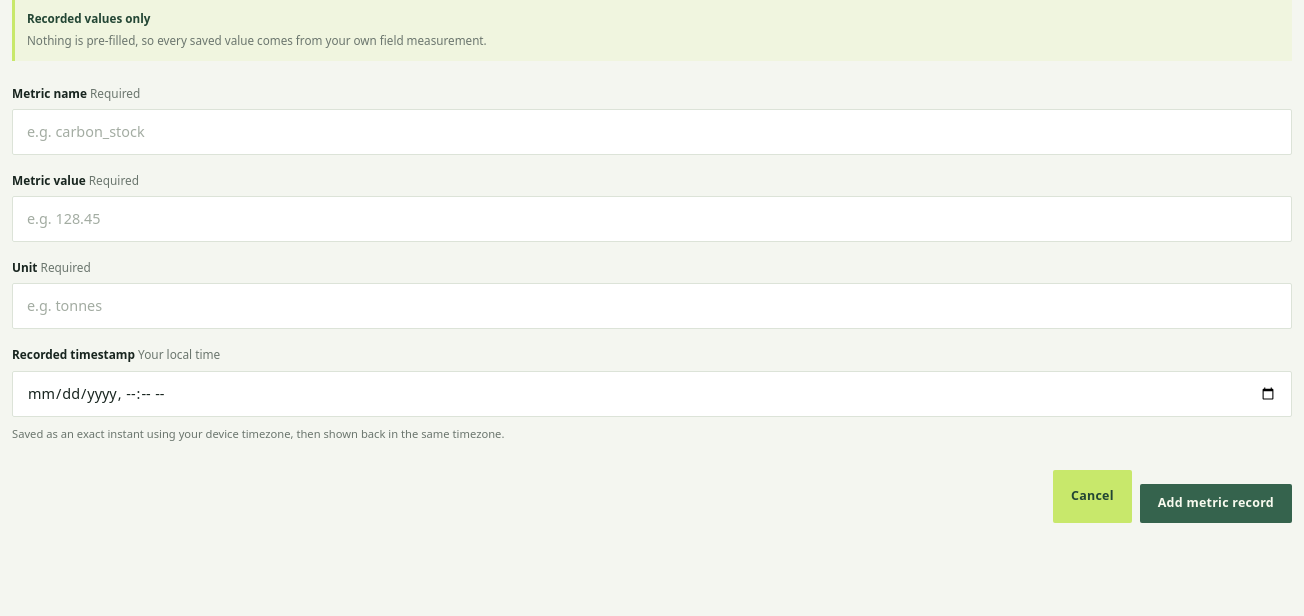
Test: MetricForm validation › rejects a metric value outside the column range
The width and height of the screenshot is (1304, 616).
Type "carbon_stock" into the field labelled "Metric name Required". click: [652, 132]
box: [12,109,1292,155]
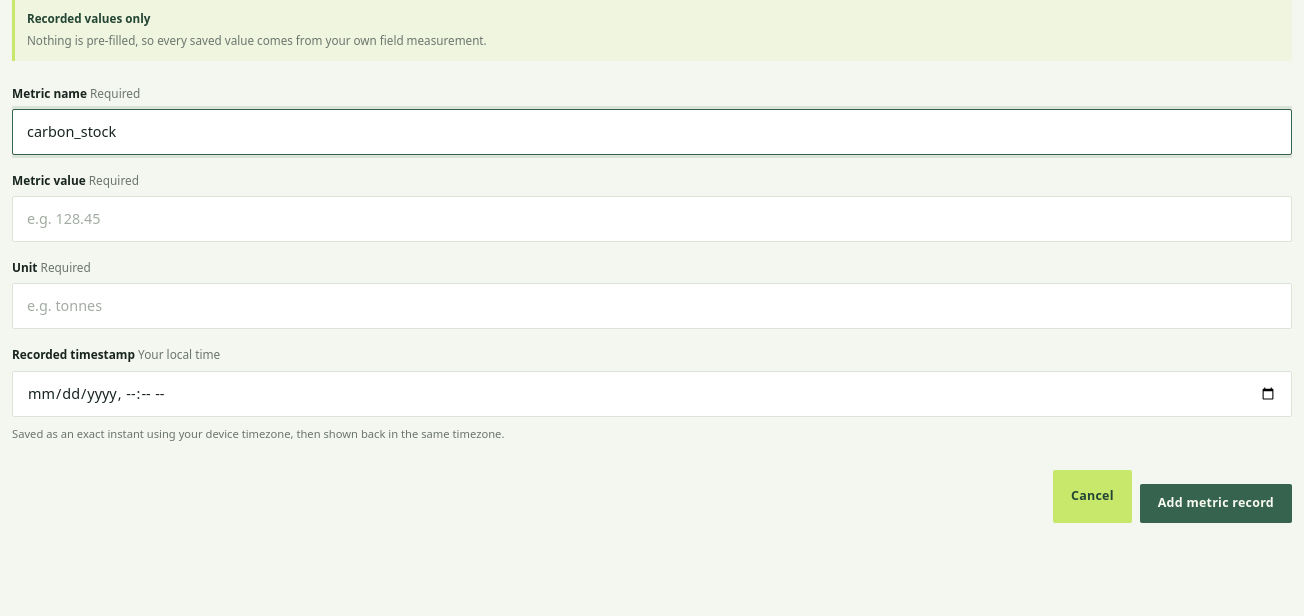
Type "1e12" into the number field labelled "Metric value Required". click: [652, 219]
box: [12,196,1292,242]
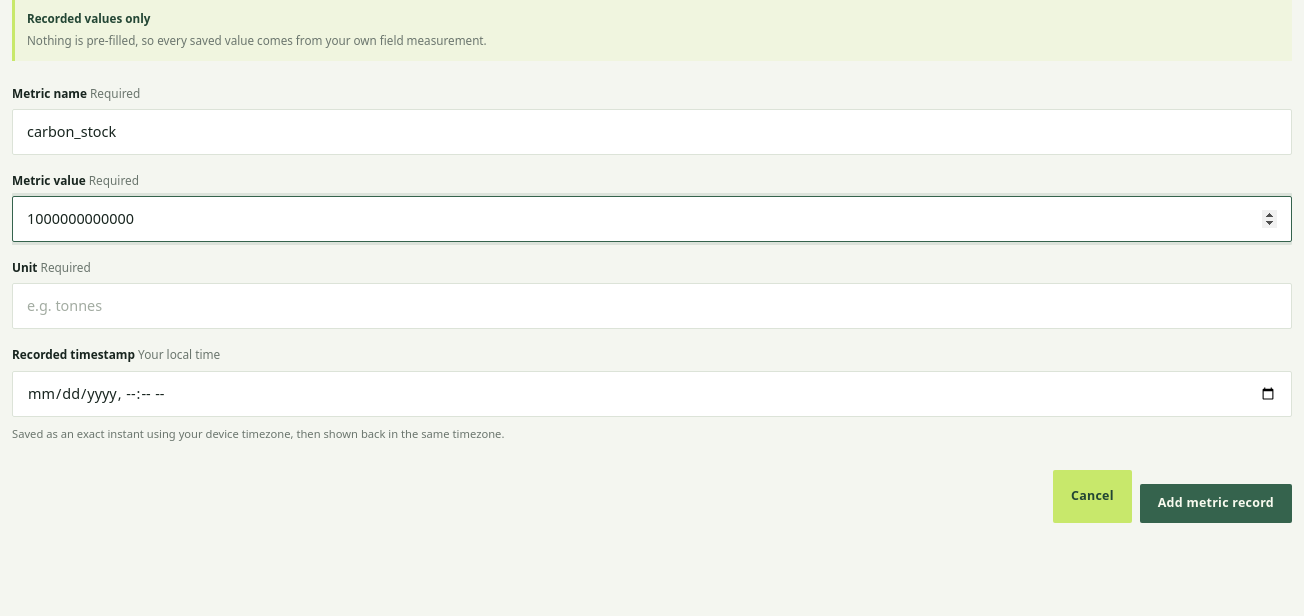
Type "tonnes" into the field labelled "Unit Required". click: [652, 306]
box: [12,284,1292,330]
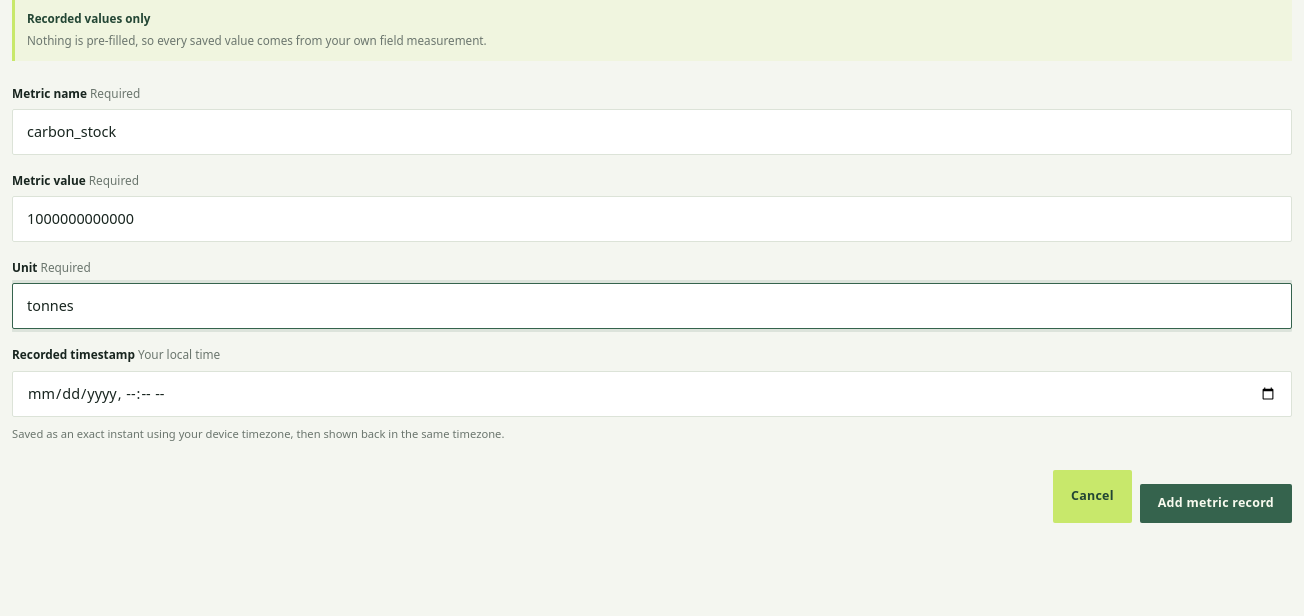
Type "2026-03-04T05:06" into the field labelled "Recorded timestamp Your local time". click: [652, 394]
box: [12,371,1292,417]
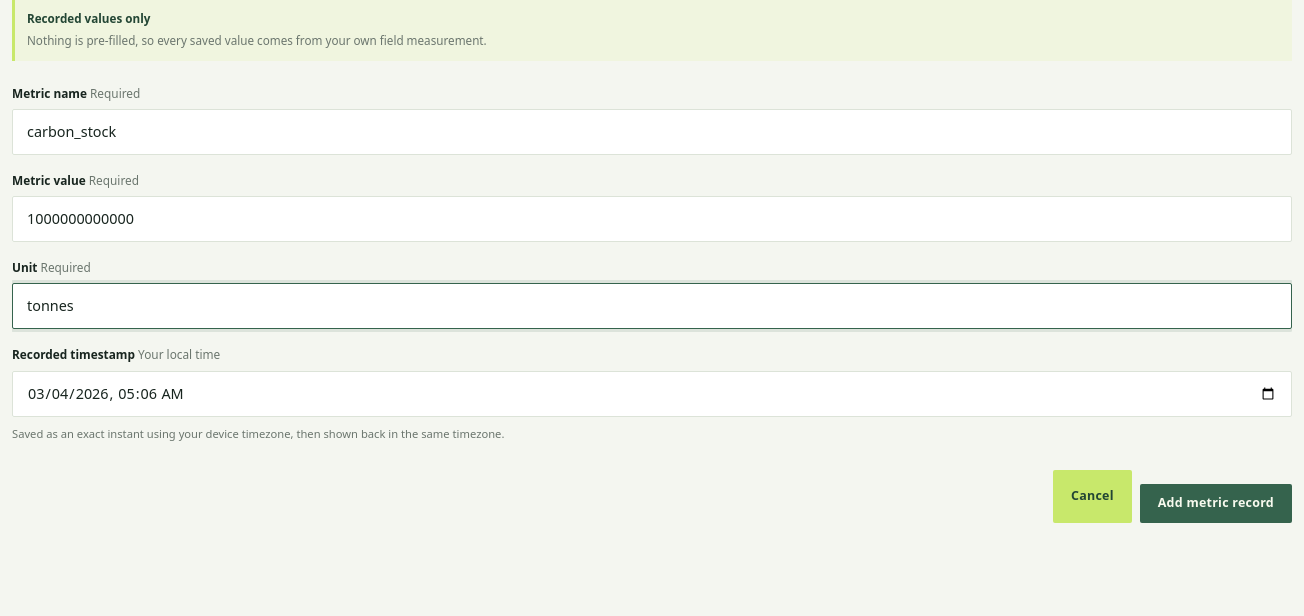
Click the button "Add metric record". click: [1216, 504]
box: [1140,484,1292,523]
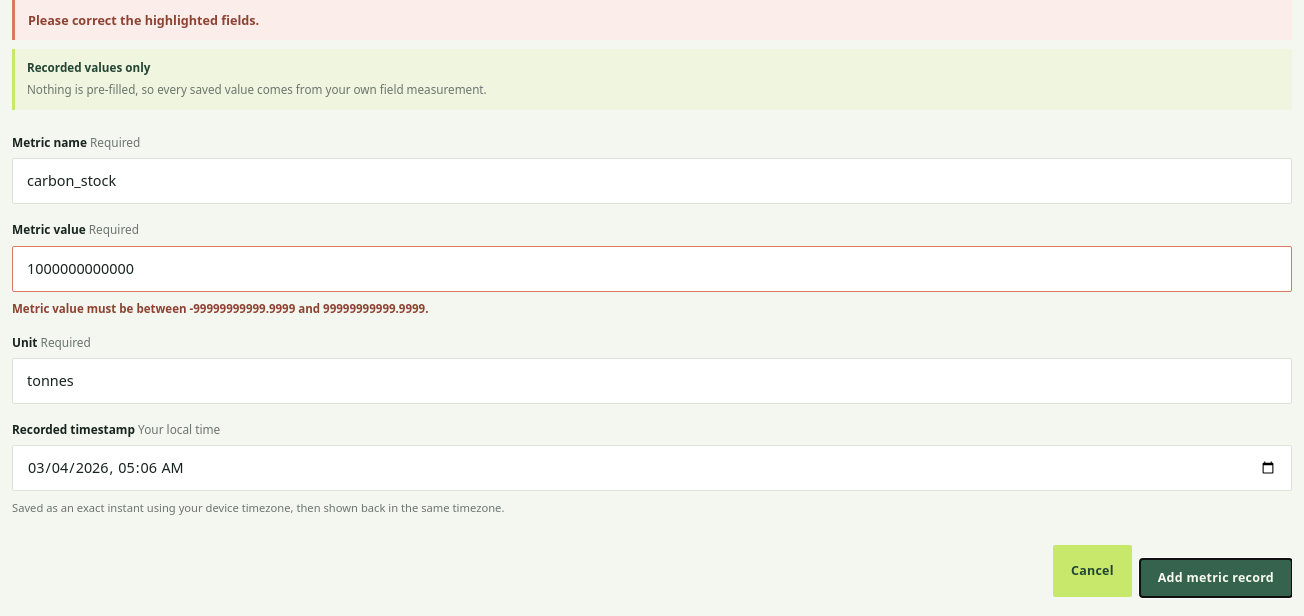
Result: the text "Metric value must be between -99999999999.9999 and 99999999999.9999." is shown at [12,301,428,316]
